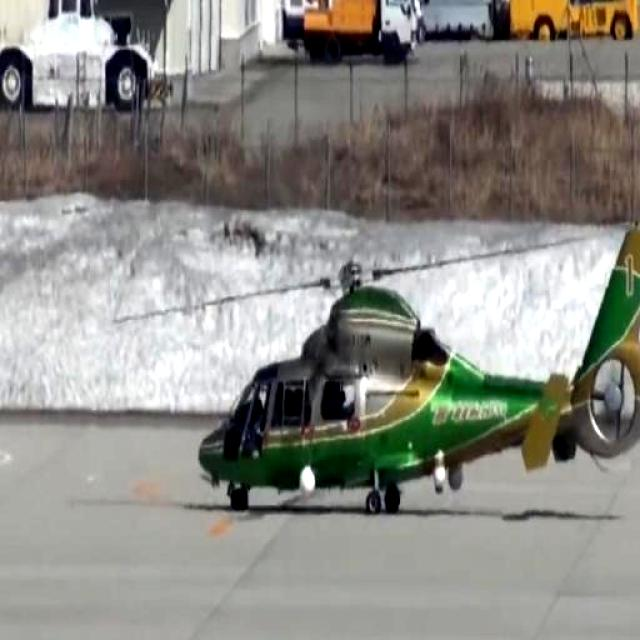drone: (182, 200, 640, 526)
